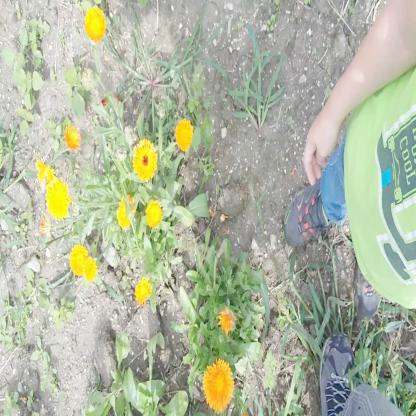marigold: (205, 358, 233, 410), (133, 138, 157, 178), (47, 179, 69, 218), (84, 4, 106, 36), (68, 245, 86, 277), (133, 277, 152, 307), (175, 119, 193, 150), (117, 196, 133, 228), (36, 159, 57, 183), (146, 202, 162, 227), (64, 126, 81, 148), (83, 257, 96, 282)
